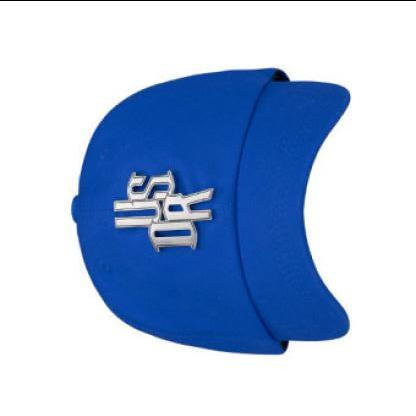cap: (62, 50, 364, 367)
